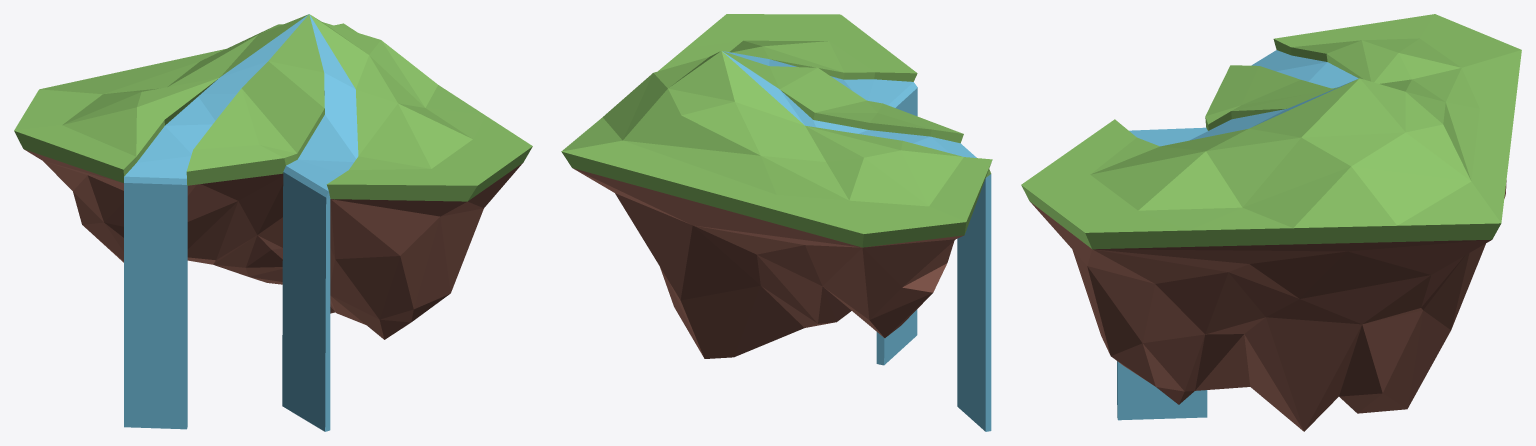
File: Island16_tex.fbx
3 views of the same model, side by side, from view 1: azimuth 30°, elevation 25°; view 2: azimuth 150°, elevation 25°; view 3: azimuth 270°, elevation 25° (orthographic). The views are drawn at different scales.
Visible parts, largest first — view 1: Island16_tex; view 2: Island16_tex; view 3: Island16_tex.
Boxes of the visible parts, x1,y1,x2,y2 form: Island16_tex: (14,14,532,431); Island16_tex: (561,14,992,431); Island16_tex: (1021,14,1521,431).
Size of the model in its own units: 3.83 by 3.27 by 3.7.
